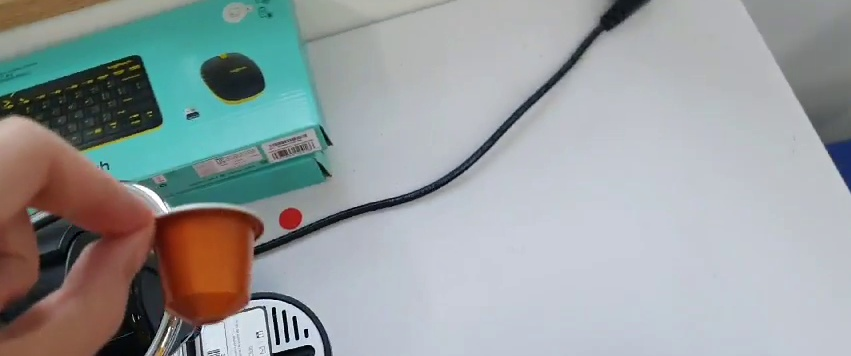capsule_5: (146, 202, 267, 322)
